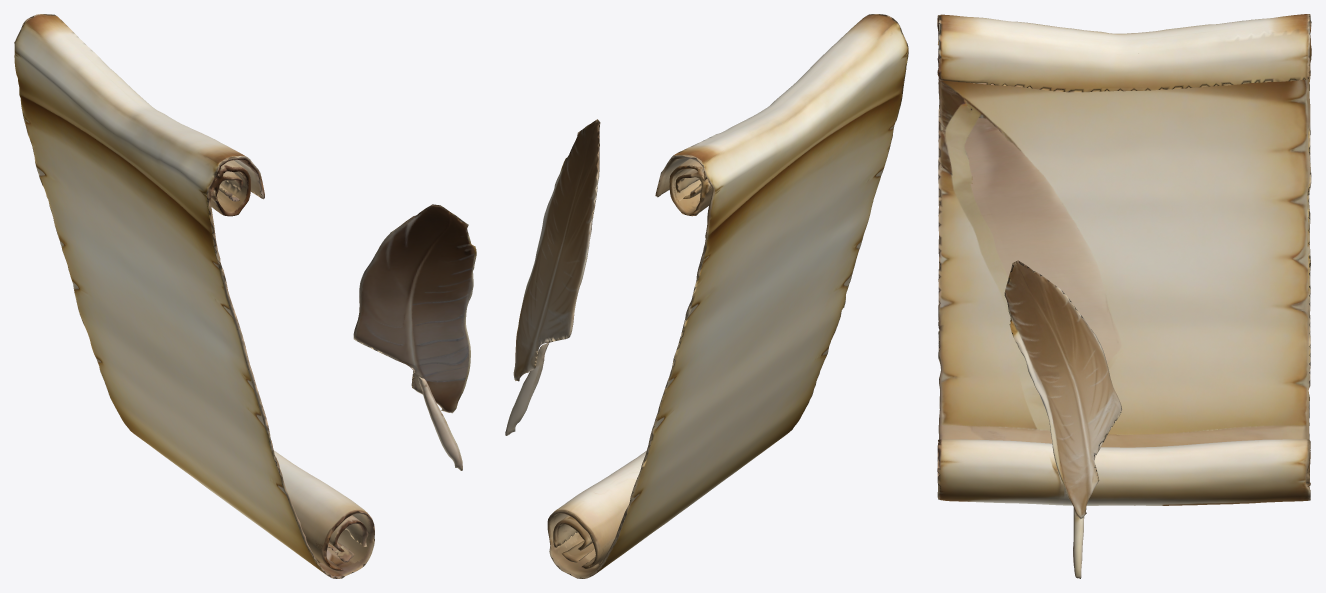
The model's file is scroll_document.glb.
3 renders of one model, left to right at view 1: azimuth 30°, elevation 25°; view 2: azimuth 150°, elevation 25°; view 3: azimuth 270°, elevation 25°, orthographic. The views are drawn at different scales.
Size of the model in its own units: 1.53 by 2 by 1.58.
1 material, 1 textured.
